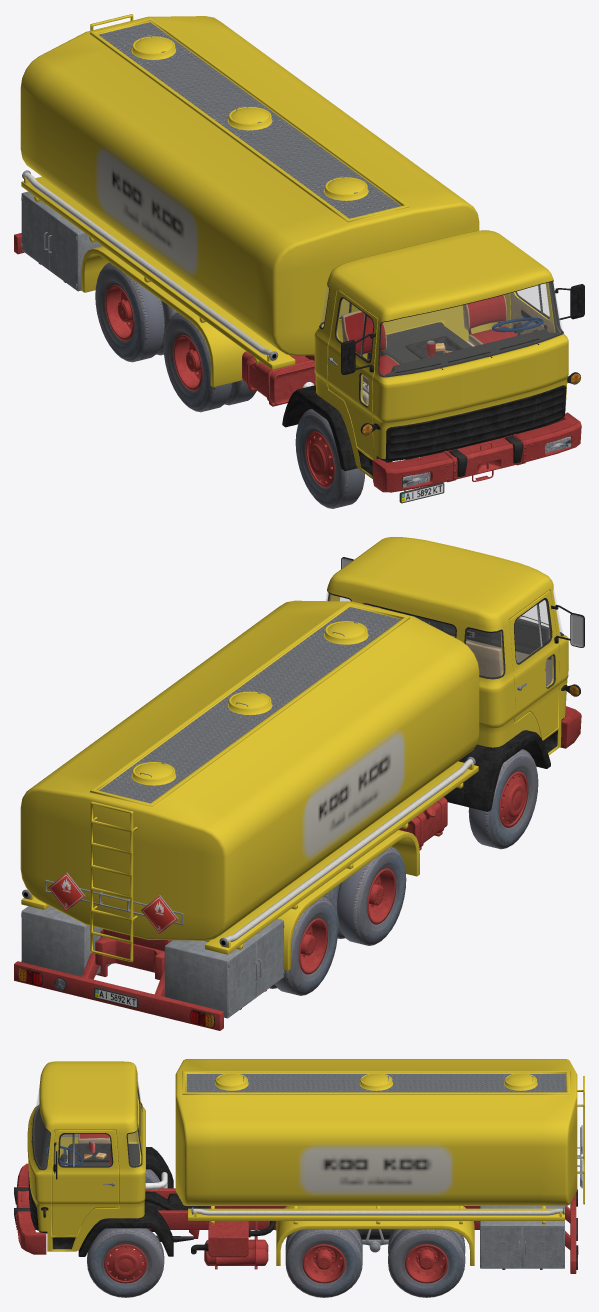
Rendered from 05_tank_truck.glb.
3 views of the same model, one above another, from view 1: azimuth 30°, elevation 25°; view 2: azimuth 150°, elevation 25°; view 3: azimuth 270°, elevation 25° (orthographic). The views are drawn at different scales.
Visible parts, largest first — view 1: fuel_tank, cab, windows, cab_interior, base_frame, right_rear_wheel_1, right_front_wheel, right_middle_wheel_1, right_drivers_window; view 2: fuel_tank, cab, base_frame, right_middle_wheel_1, right_front_wheel, right_rear_wheel_1, windows, cab_interior, right_drivers_window; view 3: fuel_tank, cab, base_frame, left_front_wheel, left_rear_wheel_1, left_middle_wheel_1, windows, cab_interior, left_drivers_windows, baking_tray.
Boxes of the visible parts, bbox=[...] form: fuel_tank: bbox=[20, 14, 479, 387]; cab: bbox=[282, 230, 580, 478]; windows: bbox=[319, 280, 563, 407]; cab_interior: bbox=[321, 282, 561, 405]; base_frame: bbox=[14, 233, 581, 492]; right_rear_wheel_1: bbox=[95, 262, 164, 362]; right_front_wheel: bbox=[295, 409, 364, 508]; right_middle_wheel_1: bbox=[163, 312, 232, 412]; right_drivers_window: bbox=[336, 299, 364, 354]; fuel_tank: bbox=[20, 600, 479, 1018]; cab: bbox=[327, 537, 580, 811]; base_frame: bbox=[14, 706, 581, 1030]; right_middle_wheel_1: bbox=[336, 846, 406, 945]; right_front_wheel: bbox=[468, 749, 538, 849]; right_rear_wheel_1: bbox=[275, 896, 337, 995]; windows: bbox=[326, 590, 563, 688]; cab_interior: bbox=[329, 594, 560, 687]; right_drivers_window: bbox=[514, 605, 540, 662]; fuel_tank: bbox=[175, 1059, 584, 1268]; cab: bbox=[27, 1061, 173, 1256]; base_frame: bbox=[14, 1163, 578, 1273]; left_front_wheel: bbox=[87, 1228, 164, 1297]; left_rear_wheel_1: bbox=[388, 1229, 465, 1297]; left_middle_wheel_1: bbox=[285, 1229, 362, 1297]; windows: bbox=[32, 1081, 142, 1170]; cab_interior: bbox=[33, 1093, 141, 1168]; left_drivers_windows: bbox=[75, 1134, 111, 1165]; baking_tray: bbox=[77, 1144, 111, 1162].
Size of the model in its own units: 3.7 by 3.59 by 10.
Materials: 57 (46 with a texture image).
